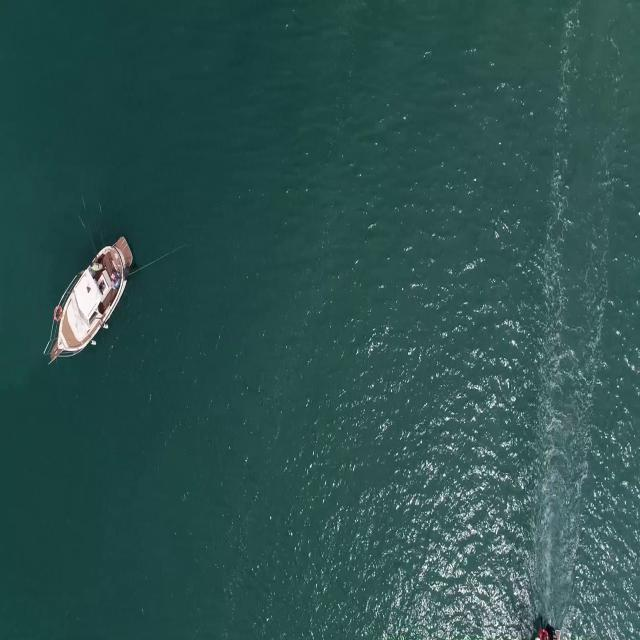boat: (50, 236, 136, 358)
life_buoy: (54, 301, 64, 324)
person: (90, 260, 107, 272), (111, 274, 123, 290)
